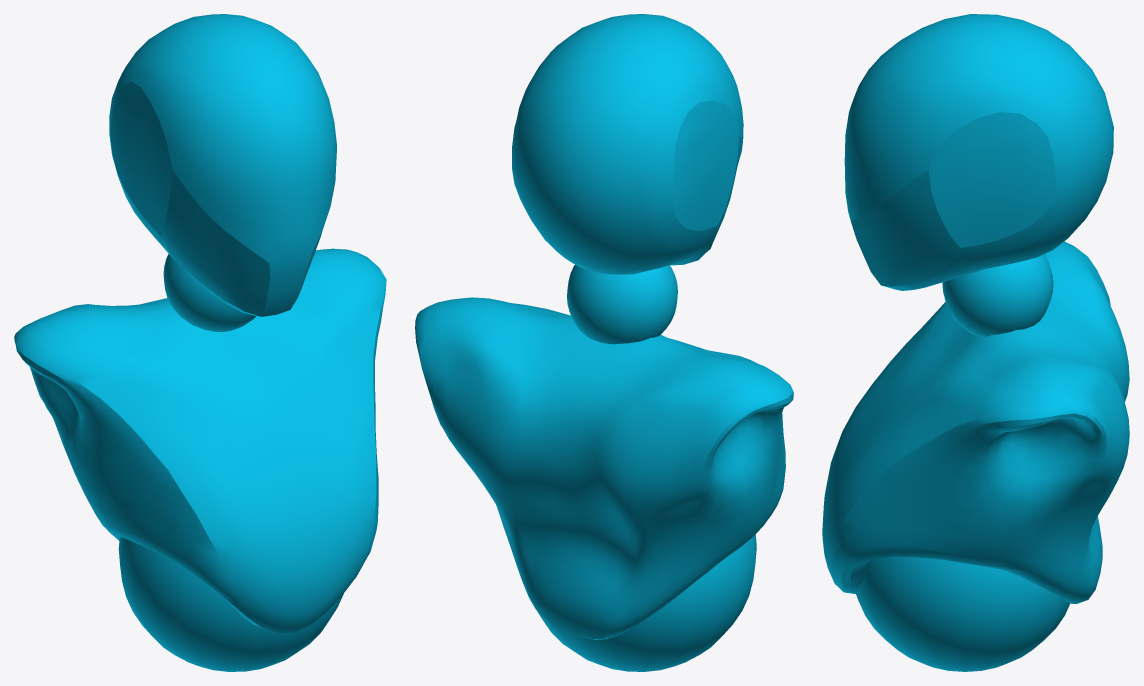
Rendered from orion.glb.
3 views of the same model, side by side, from view 1: azimuth 30°, elevation 25°; view 2: azimuth 150°, elevation 25°; view 3: azimuth 270°, elevation 25° (orthographic).
Visible parts, largest first — view 1: body; view 2: body; view 3: body.
Boxes of the visible parts, box(x1,y1,x2,y2) form: body: box(14, 14, 386, 671); body: box(415, 14, 793, 671); body: box(822, 14, 1129, 671).
Bounding box in the file's own units: 0.9641 × 1.62 × 0.7094.
